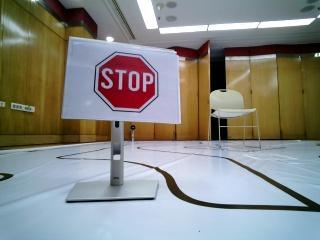stop: (83, 45, 170, 122)
